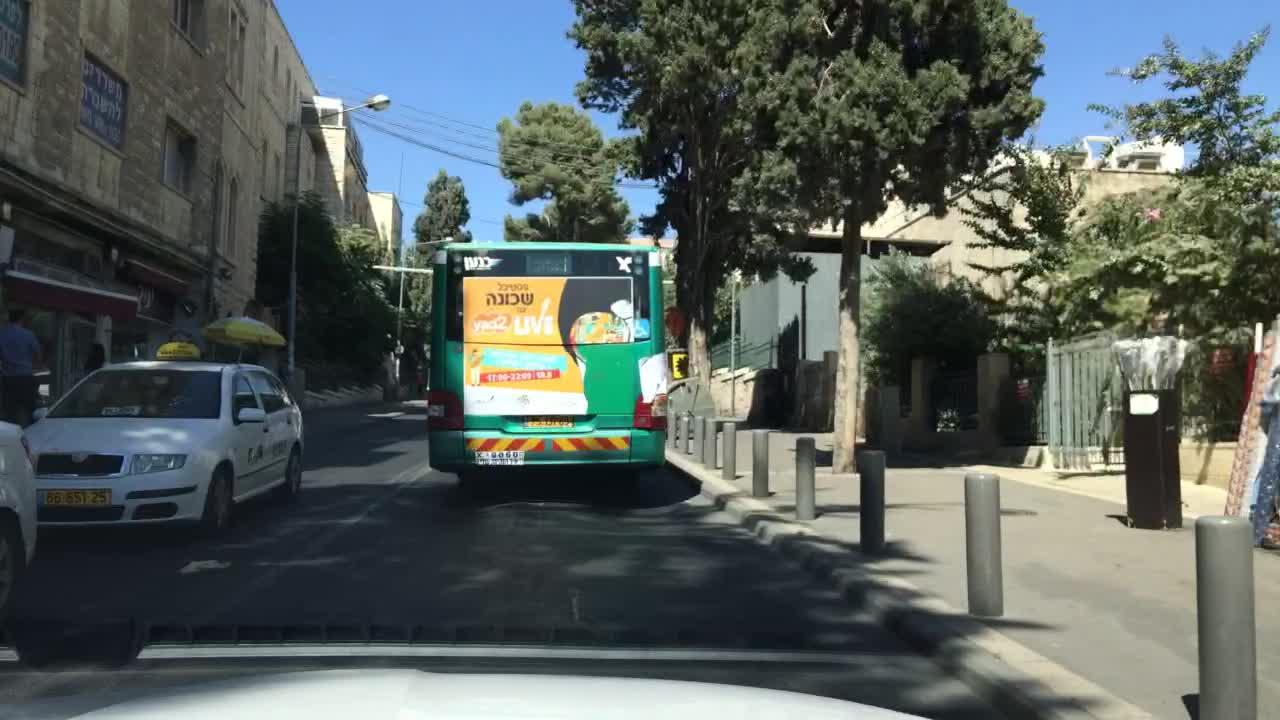bus: (423, 241, 668, 494)
car: (13, 338, 306, 540), (0, 413, 39, 613)
person: (2, 308, 48, 426), (82, 338, 108, 367)
